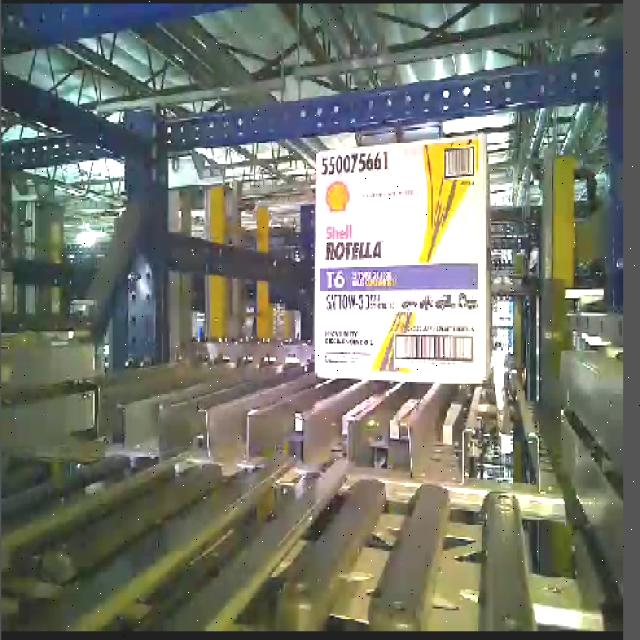box: (313, 127, 490, 382)
